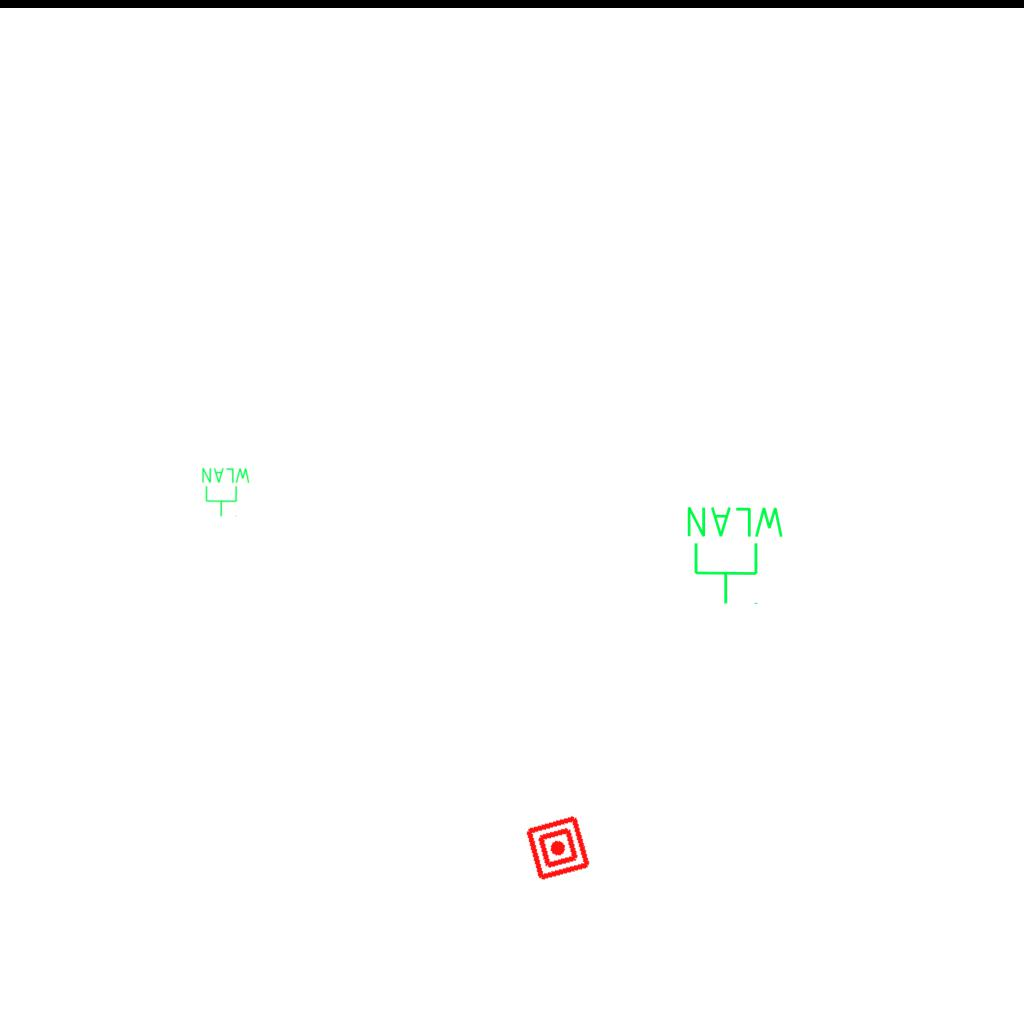NAM-Nichtautomatischer_Melder: (523, 813, 593, 883)
WLAN: (683, 503, 788, 607), (200, 466, 252, 518)
